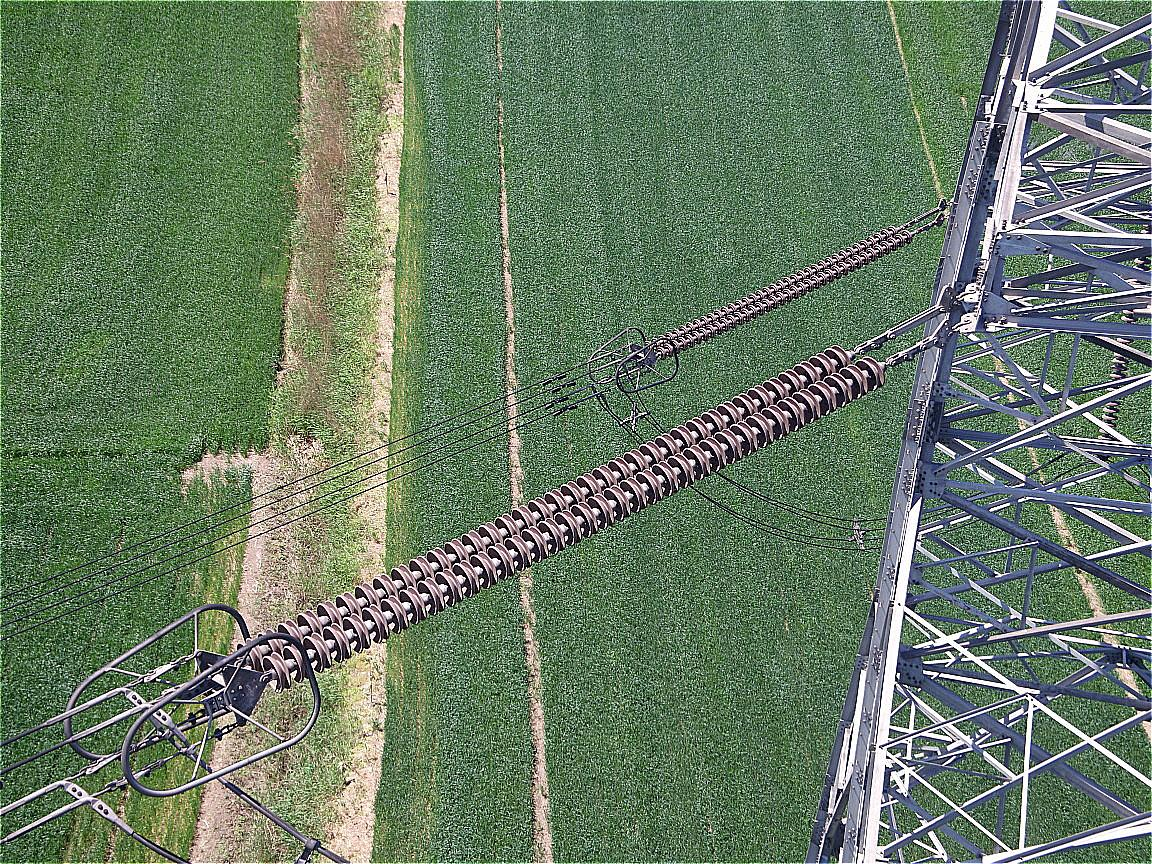insultor1: (655, 227, 912, 361)
insultor2: (239, 344, 889, 686)
